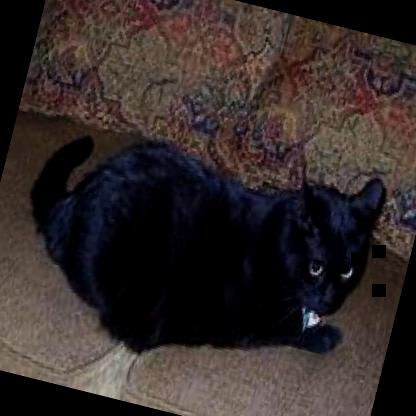cat: (0, 95, 391, 405)
